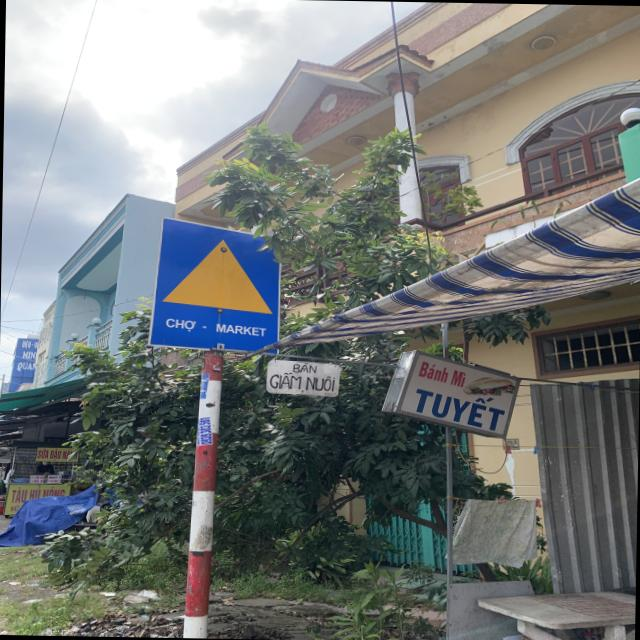Cho_Quay_Xe: (150, 218, 282, 352)
